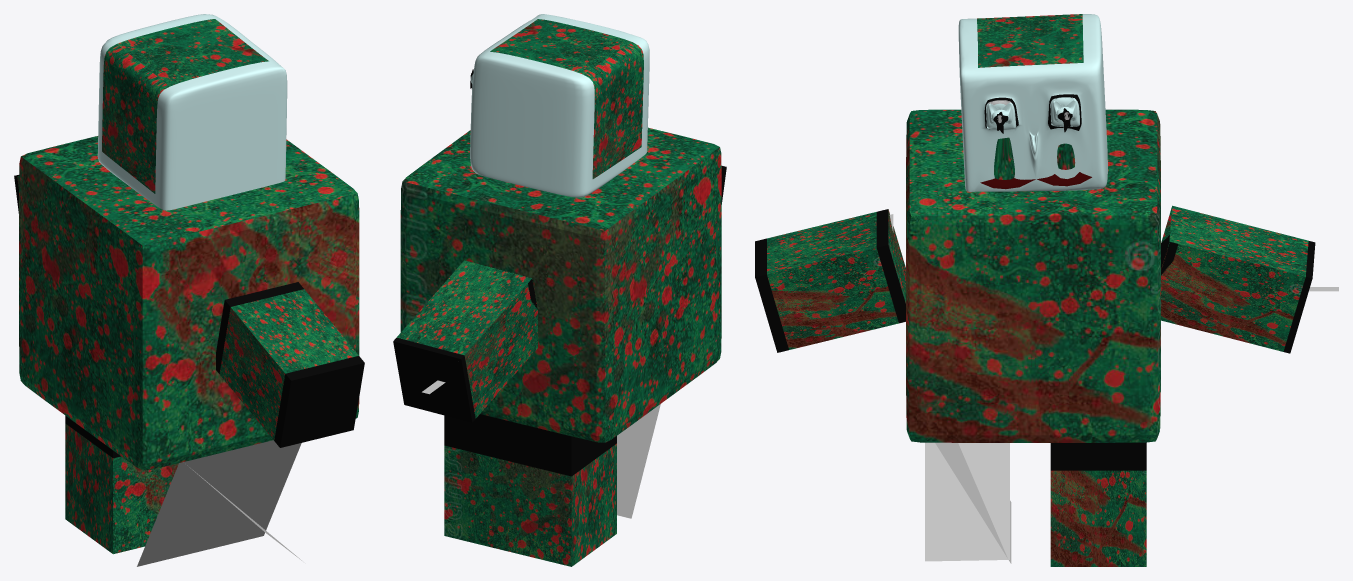
The picture shows the model from 3 angles, left to right: view 1: azimuth 30°, elevation 25°; view 2: azimuth 150°, elevation 25°; view 3: azimuth 270°, elevation 25°; orthographic projection. The views are drawn at different scales.
Parts seen in each view (by area): view 1: Cube_Cube.001, Cube.001_Cube.002, Cube.005_Cube.007, RectRL1_Plane.009, Cube.003_Cube.004; view 2: Cube_Cube.001, Cube.001_Cube.002, Cube.003_Cube.004, Cube.004_Cube.005, RectRL1_Plane.009; view 3: Cube_Cube.001, Cube.001_Cube.002, Cube.004_Cube.005, Cube.005_Cube.007, Cube.003_Cube.004, RectLL1.001_Plane.011, RectRL1_Plane.009.
Boxes of the visible parts, x1,y1,x2,y2 form: Cube_Cube.001: (19, 136, 359, 470); Cube.001_Cube.002: (97, 14, 287, 210); Cube.005_Cube.007: (216, 282, 364, 447); RectRL1_Plane.009: (137, 440, 301, 566); Cube.003_Cube.004: (65, 415, 178, 554); Cube_Cube.001: (400, 127, 721, 442); Cube.001_Cube.002: (470, 14, 649, 197); Cube.003_Cube.004: (444, 414, 616, 566); Cube.004_Cube.005: (393, 260, 537, 422); RectRL1_Plane.009: (617, 404, 660, 518); Cube_Cube.001: (906, 109, 1160, 442); Cube.001_Cube.002: (958, 14, 1107, 191); Cube.004_Cube.005: (1161, 205, 1315, 353); Cube.005_Cube.007: (755, 209, 905, 352); Cube.003_Cube.004: (1050, 442, 1146, 566); RectLL1.001_Plane.011: (925, 442, 1009, 561); RectRL1_Plane.009: (935, 442, 1011, 563).
Size of what is drawn, in the model's own units: 1.46 by 3.14 by 3.34.
13 materials, 1 textured.
